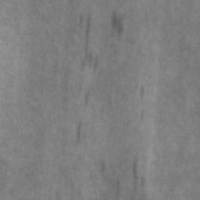inclusion: (70, 12, 105, 76), (108, 156, 149, 199), (104, 7, 129, 42), (69, 116, 89, 151)
